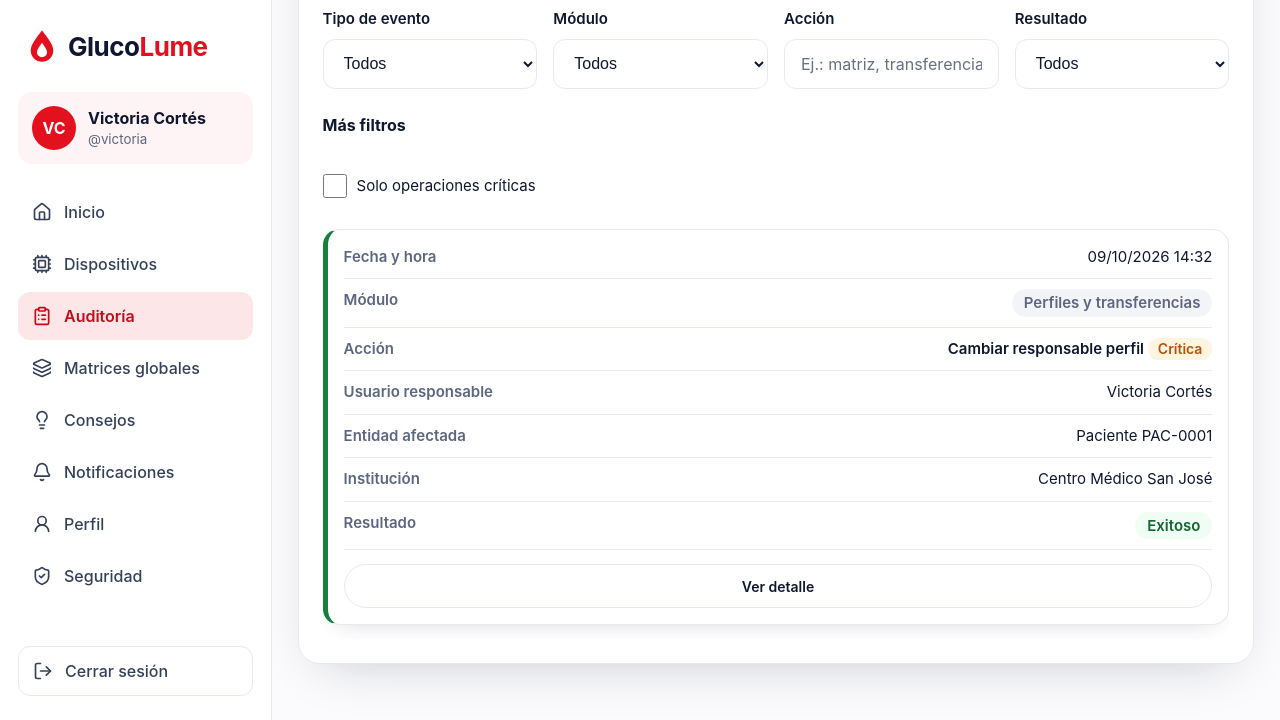
Test: Auditoría general (administrador del sistema) › muestra los cambios con nombres y deja los UUID en los detalles técnicos
(page scrolled)
Check: the text "Paciente PAC-0001" is shown, box left=344, top=415, right=1212, bottom=458
Click the link "Ver detalle". click: (778, 586)
box: left=344, top=564, right=1212, bottom=608
(page scrolled)
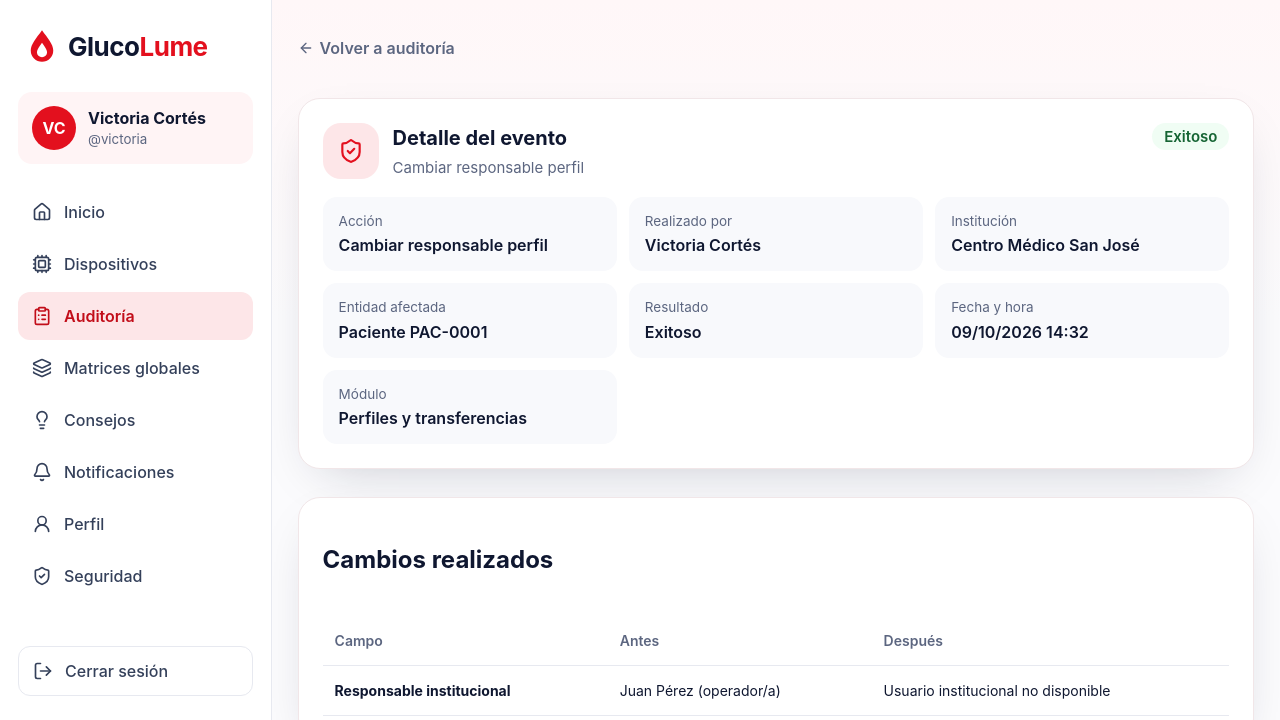
Check: the heading "Detalle del evento" is shown, box left=393, top=123, right=584, bottom=153
Check: the column headings read "Campo", "Antes", "Después", in this order, box left=323, top=616, right=608, bottom=665; left=608, top=616, right=872, bottom=665; left=872, top=616, right=1229, bottom=665
Check: the text "Responsable institucional" shows "Juan Pérez (operador/a)", box left=620, top=682, right=781, bottom=699
